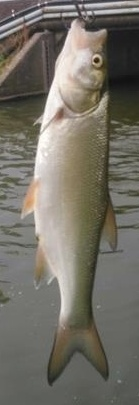Aspius aspius: (20, 20, 119, 385)
